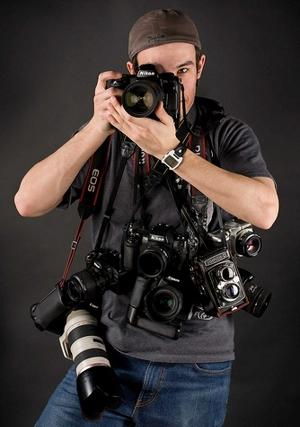person: (14, 9, 280, 427)
